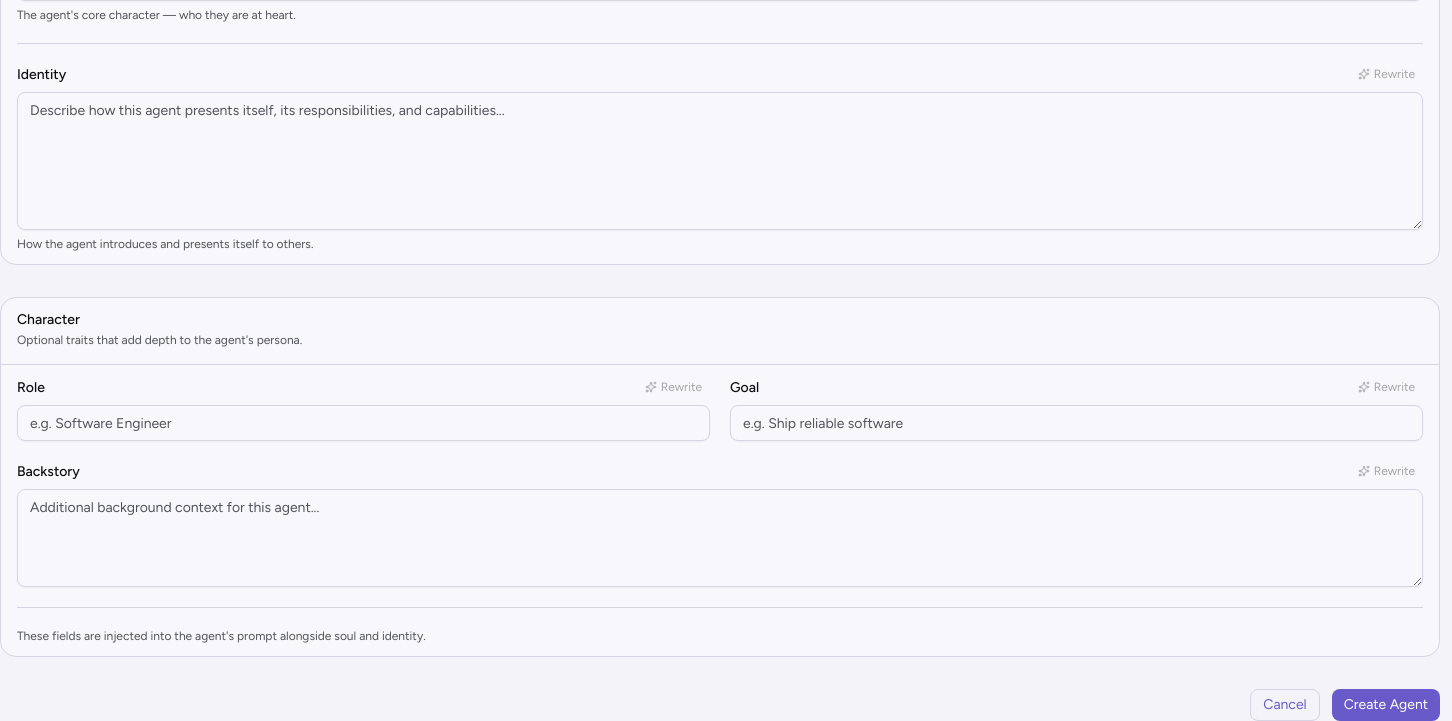
Test: CreateAgentForm › rewrites goal field via AI
(page scrolled)
Type "Ship code" into the field labelled "Goal" at {"x": 1076, "y": 423}, box [730, 405, 1423, 441]
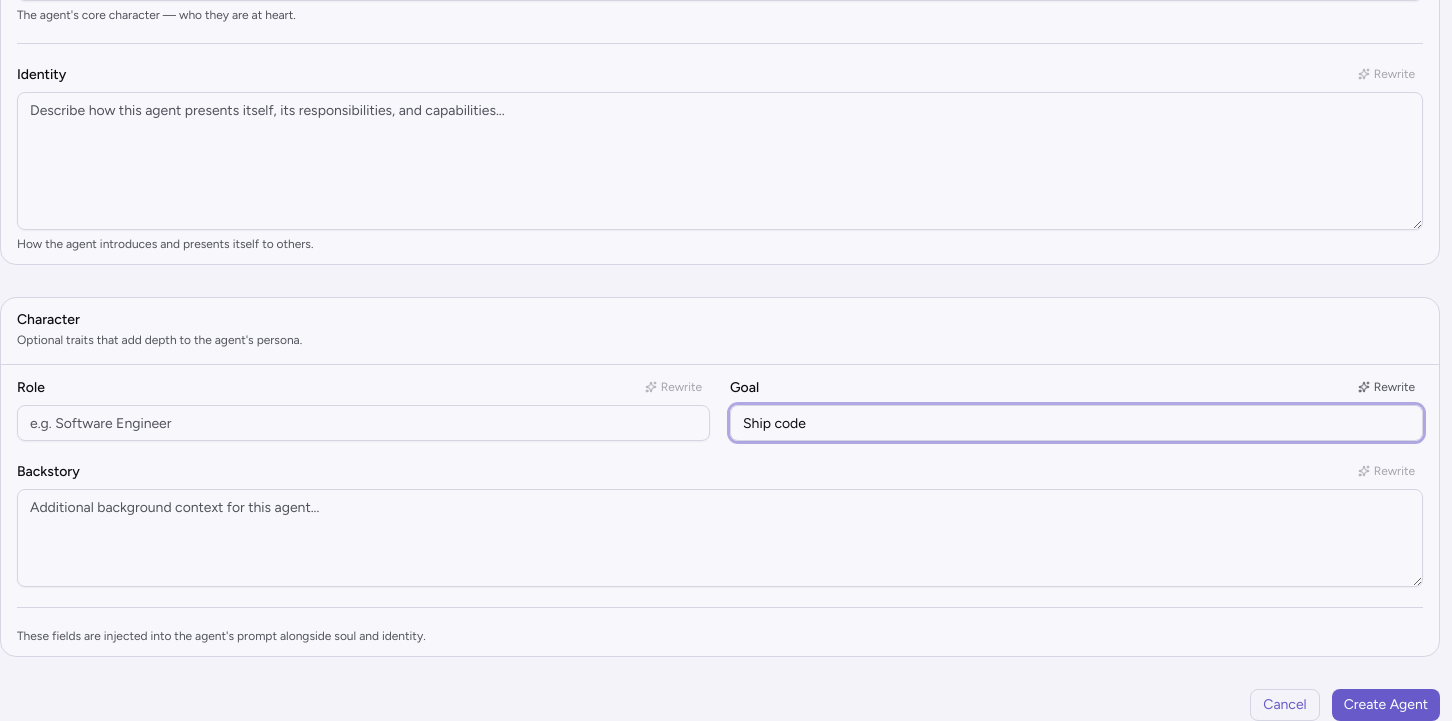
Click the 3rd button "Rewrite" at {"x": 1386, "y": 387}, box [1350, 377, 1423, 397]
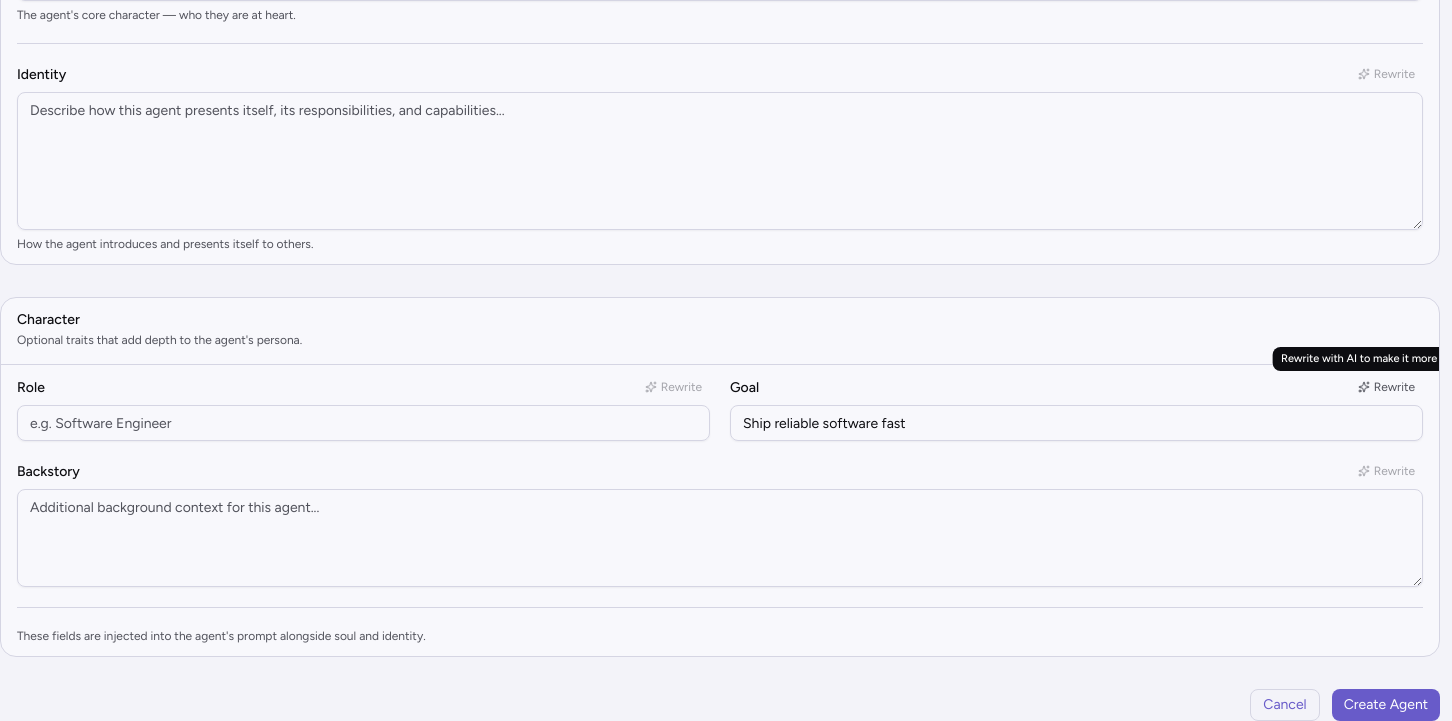
Result: the field labelled "Goal" holds "Ship reliable software fast" at [730, 405, 1423, 441]
